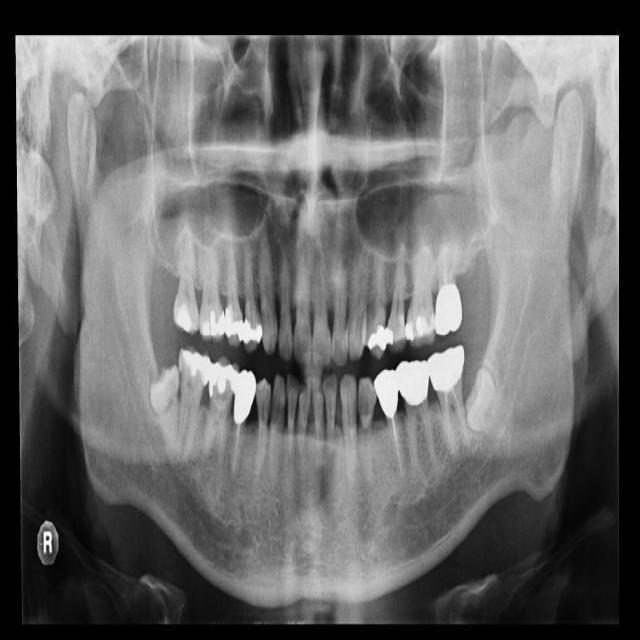Crown: (426, 346, 465, 395), (394, 359, 429, 407), (435, 283, 464, 334), (374, 369, 398, 415), (234, 370, 256, 420)
Filling: (178, 344, 211, 395), (209, 356, 239, 401), (405, 307, 435, 349), (200, 298, 226, 341), (362, 319, 387, 360), (173, 299, 201, 335), (385, 318, 407, 354), (243, 314, 263, 353), (224, 307, 243, 348)
Root Canal Treatment: (392, 416, 402, 472), (233, 429, 239, 471), (464, 420, 469, 439), (456, 396, 460, 411), (460, 411, 464, 420)
impacted tooth: (467, 363, 516, 434), (149, 365, 181, 467)
